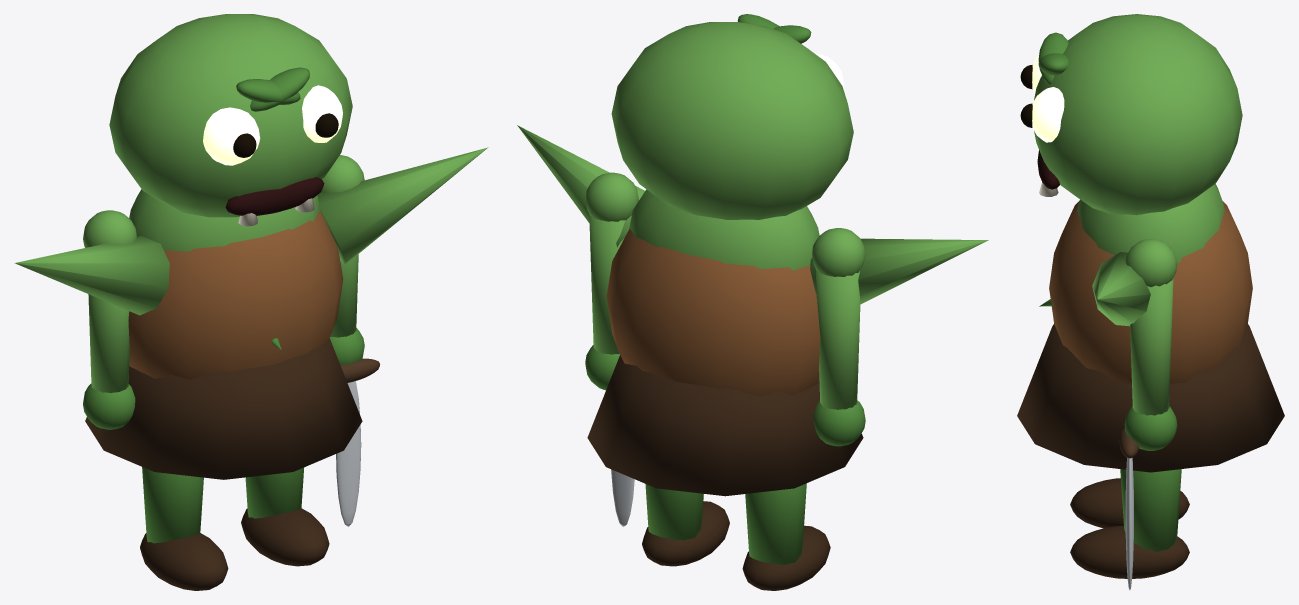
The model's file is goblin.glb.
The picture shows the model from 3 angles, left to right: view 1: azimuth 30°, elevation 25°; view 2: azimuth 150°, elevation 25°; view 3: azimuth 270°, elevation 25°; orthographic projection. The views are drawn at different scales.
Parts seen in each view (by area): view 1: head_m, belly, skirt, ear.001, ear, chest, leg_L_m, leg_R_foot, leg_L_foot, arm_L_m, leg_R_m, eye_w (+11 smaller); view 2: head_m, belly, skirt, chest, arm_L_m, ear, leg_L_m, arm_R_m, leg_R_foot, leg_L_foot, leg_R_m, ear.001 (+5 smaller); view 3: head_m, skirt, belly, chest, arm_R_m, leg_R_foot, leg_R_m, ear.001, leg_L_foot, arm_R_sh, arm_R_hand, eye_w.001 (+5 smaller).
Boxes of the visible parts, box(x1,y1,x2,y2) form: head_m: box(109, 14, 352, 217); belly: box(128, 211, 343, 379); skirt: box(85, 338, 362, 479); ear.001: box(317, 147, 488, 265); ear: box(14, 236, 169, 315); chest: box(129, 189, 320, 251); leg_L_m: box(142, 467, 203, 543); leg_R_foot: box(241, 508, 329, 566); leg_L_foot: box(140, 533, 228, 590); arm_L_m: box(88, 294, 129, 393); leg_R_m: box(245, 467, 304, 518); eye_w: box(203, 107, 260, 165); head_m: box(611, 22, 853, 219); belly: box(606, 229, 820, 396); skirt: box(587, 355, 863, 496); chest: box(629, 189, 819, 270); arm_L_m: box(815, 269, 860, 409); ear: box(810, 238, 988, 304); leg_L_m: box(745, 483, 806, 564); arm_R_m: box(589, 214, 625, 354); leg_R_foot: box(642, 501, 729, 566); leg_L_foot: box(742, 525, 830, 590); leg_R_m: box(645, 484, 703, 540); ear.001: box(517, 125, 644, 247); head_m: box(1034, 14, 1242, 215); skirt: box(1017, 324, 1284, 472); belly: box(1049, 201, 1252, 383); chest: box(1077, 184, 1224, 262); arm_R_m: box(1130, 278, 1173, 415); leg_R_foot: box(1070, 525, 1189, 578); leg_R_m: box(1120, 469, 1181, 551); ear.001: box(1092, 252, 1150, 326); leg_L_foot: box(1070, 478, 1189, 528); arm_R_sh: box(1125, 239, 1177, 286); arm_R_hand: box(1124, 406, 1177, 450); eye_w.001: box(1032, 87, 1064, 142).
Size of the model in its own units: 1.5 by 1.64 by 0.76.
